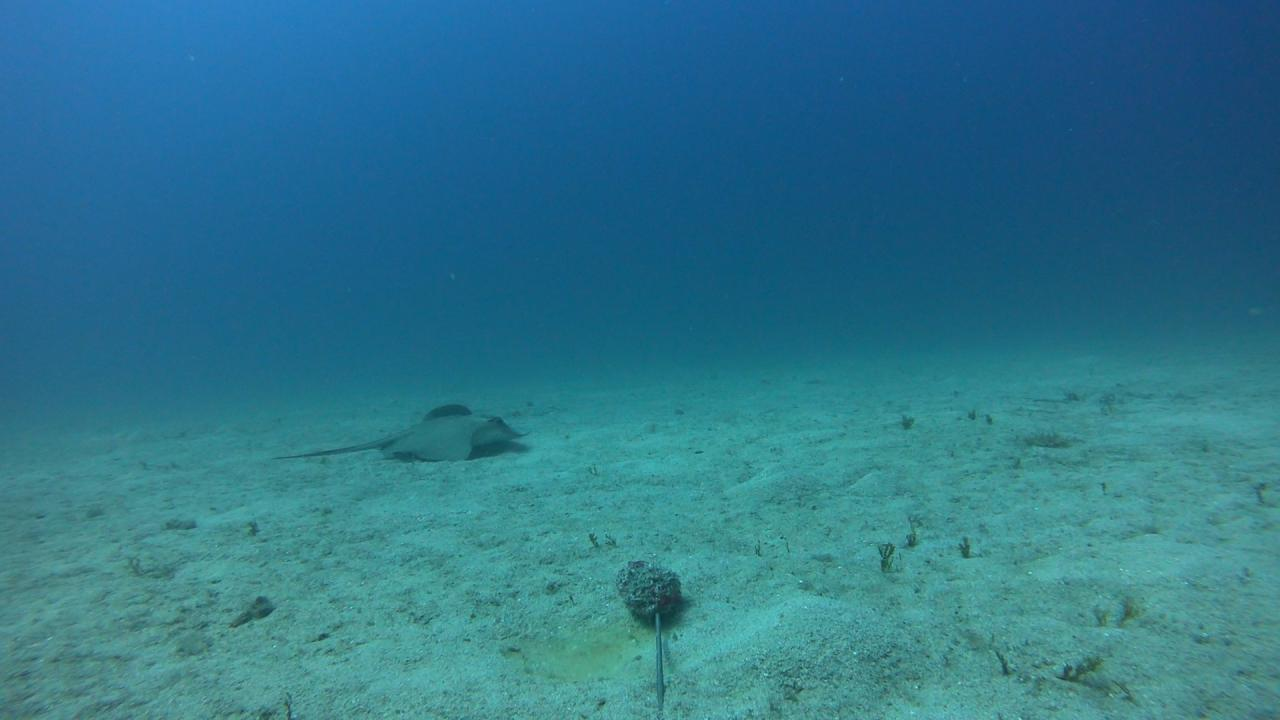dasyatis: (266, 402, 530, 461)
